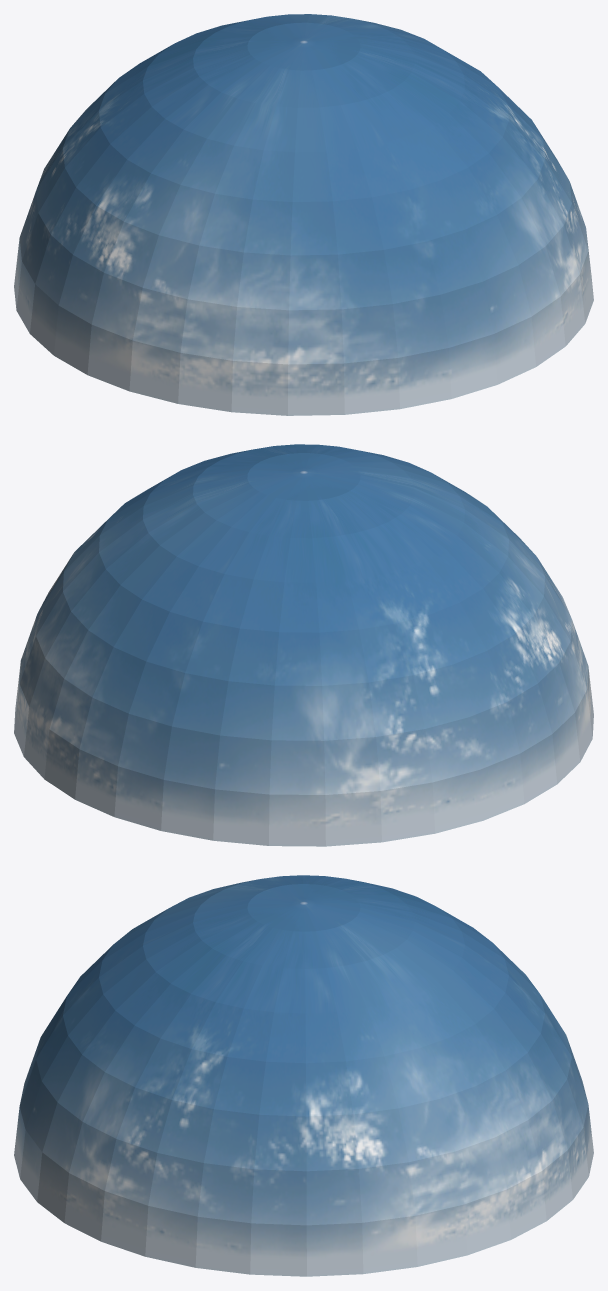
The model's file is bahrain_sky.glb.
3 renders of one model, top to bottom at view 1: azimuth 30°, elevation 25°; view 2: azimuth 150°, elevation 25°; view 3: azimuth 270°, elevation 25°, orthographic.
Bounding box in the file's own units: 2200 × 1051 × 2200.
Materials: 1 (1 with a texture image).
